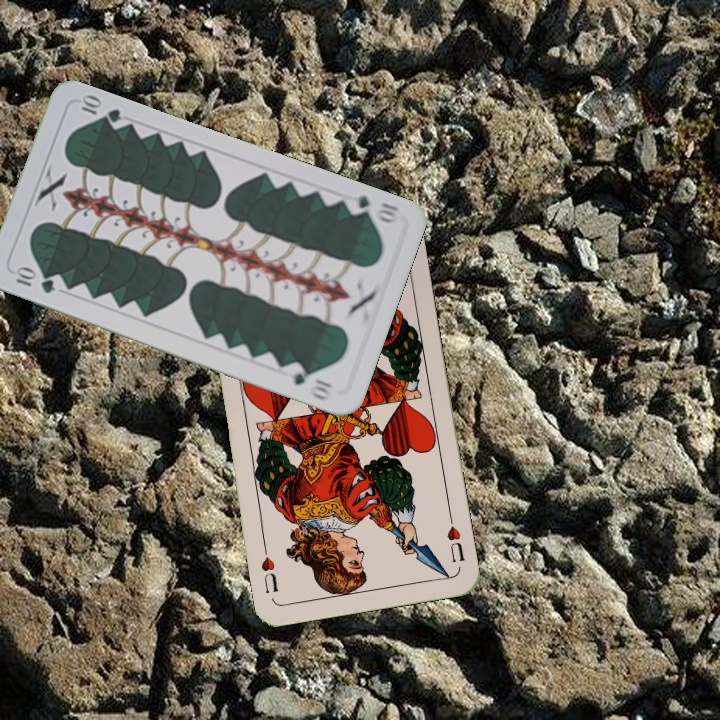G10: (342, 191, 402, 226), (10, 264, 58, 297)
HU: (443, 511, 467, 565)
